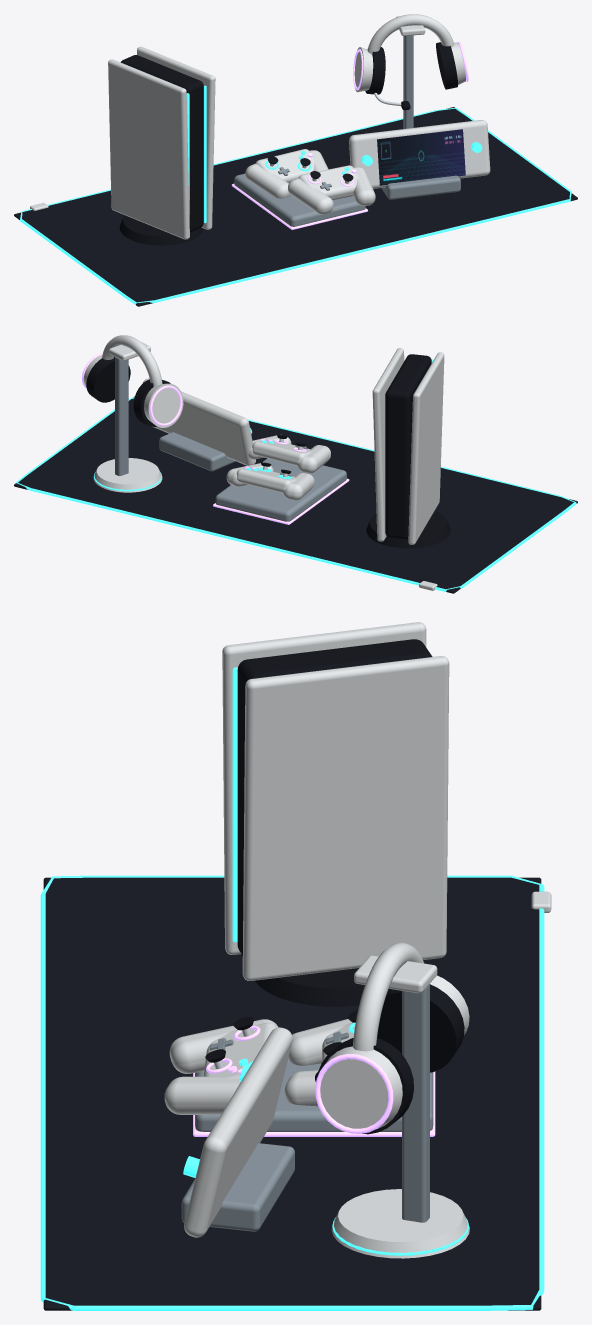
Rendered from atelier-gaming-loadout-console-arctic.glb.
3 renders of one model, top to bottom at view 1: azimuth 30°, elevation 25°; view 2: azimuth 150°, elevation 25°; view 3: azimuth 270°, elevation 25°, orthographic. The views are drawn at different scales.
Visible parts, largest first — view 1: object 1, object 8, Gaming handheld display, object 5, object 43, object 2, object 9, object 10, object 42, object 51, object 4, object 27 (+10 smaller); view 2: object 1, object 8, object 5, object 10, object 43, object 2, object 9, object 47, object 49, object 42, object 4, object 53 (+9 smaller); view 3: object 1, object 9, object 2, object 43, object 47, object 8, object 49, object 5, object 56, object 42, object 52, object 51 (+12 smaller).
Boxes of the visible parts, <box> form: object 1: <box>14,107,577,306</box>; object 8: <box>108,59,189,239</box>; Gaming handheld display: <box>377,129,465,185</box>; object 5: <box>120,55,203,232</box>; object 43: <box>349,120,490,188</box>; object 2: <box>20,107,571,304</box>; object 9: <box>137,46,215,229</box>; object 10: <box>234,173,365,226</box>; object 42: <box>381,175,460,199</box>; object 51: <box>367,14,454,54</box>; object 4: <box>119,215,203,245</box>; object 27: <box>298,165,358,200</box>; object 1: <box>14,396,577,593</box>; object 8: <box>408,352,444,544</box>; object 5: <box>385,354,431,539</box>; object 10: <box>215,458,346,521</box>; object 43: <box>142,378,255,465</box>; object 2: <box>15,397,576,591</box>; object 9: <box>372,348,404,541</box>; object 47: <box>93,458,162,492</box>; object 49: <box>115,357,128,475</box>; object 42: <box>159,432,235,471</box>; object 4: <box>366,511,450,548</box>; object 53: <box>144,383,183,427</box>; object 1: <box>43,877,541,1310</box>; object 9: <box>242,656,449,980</box>; object 2: <box>40,875,544,1310</box>; object 43: <box>184,1027,292,1237</box>; object 47: <box>331,1189,469,1258</box>; object 8: <box>222,622,426,954</box>; object 49: <box>402,984,429,1222</box>; object 5: <box>237,639,432,955</box>; object 56: <box>320,1046,402,1129</box>; object 42: <box>181,1143,294,1231</box>; object 52: <box>377,984,464,1072</box>; object 51: <box>352,942,424,1051</box>.
Size of the model in its own units: 0.9452 by 0.331 by 0.4716.
8 materials, 1 textured.
